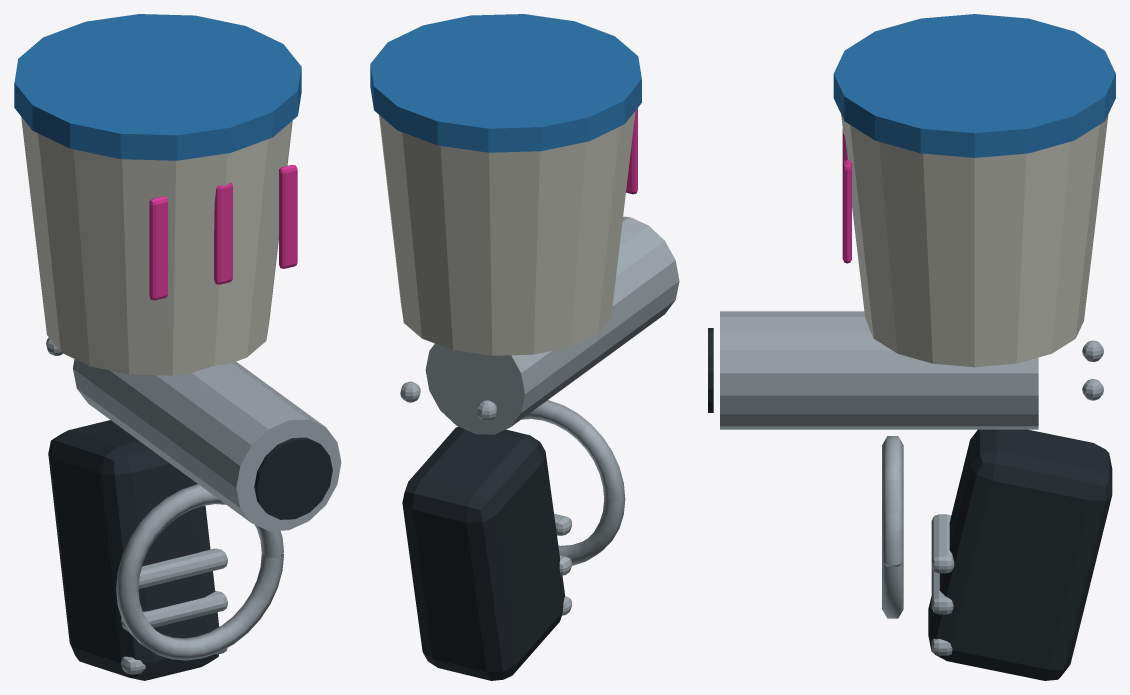
The model's file is paint-sprayer.glb.
3 views of the same model, side by side, from view 1: azimuth 30°, elevation 25°; view 2: azimuth 150°, elevation 25°; view 3: azimuth 270°, elevation 25° (orthographic). The views are drawn at different scales.
Parts seen in each view (by area): view 1: barrel; view 2: barrel; view 3: barrel.
Part boxes in pixels (bbox=[...]): barrel: bbox=[14, 14, 341, 680]; barrel: bbox=[370, 14, 679, 680]; barrel: bbox=[708, 14, 1115, 680].
Size of the model in its own units: 0.31 by 0.7189 by 0.448.
